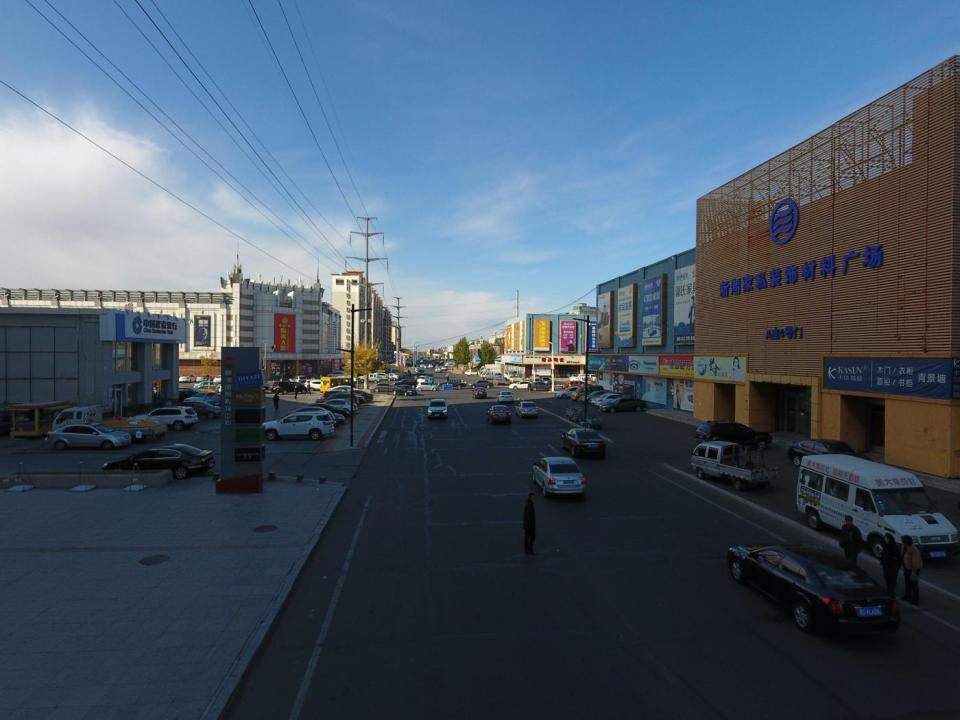bus: (320, 376, 359, 398), (386, 367, 406, 378)
car: (728, 542, 900, 638), (102, 443, 215, 479), (787, 439, 873, 474), (694, 418, 768, 449), (261, 410, 334, 441), (532, 457, 586, 498), (45, 424, 132, 447), (131, 406, 197, 431), (560, 428, 606, 457), (279, 407, 335, 430), (295, 408, 343, 426), (309, 398, 358, 415), (178, 401, 224, 419), (298, 403, 349, 419), (313, 393, 360, 409), (599, 396, 645, 412), (186, 392, 227, 408), (334, 388, 373, 404), (316, 399, 351, 416), (162, 387, 199, 402), (271, 380, 304, 396), (595, 393, 628, 409), (590, 392, 624, 405), (427, 398, 448, 419), (487, 406, 511, 424), (580, 390, 610, 404), (324, 386, 363, 396), (515, 402, 538, 418), (305, 378, 331, 392), (554, 386, 587, 397), (193, 381, 223, 392), (326, 371, 350, 383), (529, 381, 555, 392), (392, 384, 417, 395), (213, 373, 232, 387), (370, 382, 398, 391), (507, 380, 531, 390), (496, 390, 514, 403), (394, 379, 418, 388), (467, 380, 494, 388), (562, 380, 582, 390), (195, 373, 214, 383), (178, 374, 198, 383), (372, 373, 392, 382), (570, 374, 592, 382), (417, 382, 438, 390), (292, 374, 307, 385), (471, 388, 487, 398), (382, 373, 398, 381), (586, 373, 598, 383), (539, 376, 552, 384), (568, 374, 580, 382), (417, 376, 432, 382), (530, 373, 539, 381), (434, 367, 442, 373), (402, 363, 412, 367), (445, 364, 455, 368), (416, 369, 421, 374), (418, 370, 424, 374), (390, 363, 400, 365), (441, 366, 446, 370), (428, 364, 433, 368), (414, 368, 420, 371), (434, 365, 440, 368), (424, 364, 428, 368), (420, 364, 424, 368), (417, 364, 420, 367), (420, 360, 423, 363)
truck: (52, 405, 166, 440), (691, 444, 776, 488), (438, 378, 466, 389), (479, 364, 504, 375), (359, 373, 380, 382), (575, 376, 591, 386), (480, 369, 502, 376), (503, 371, 517, 382), (483, 372, 501, 380), (509, 373, 521, 383), (480, 371, 496, 378), (465, 369, 479, 376), (493, 376, 505, 384)
van: (794, 452, 959, 569), (325, 389, 366, 406), (571, 385, 604, 402)
